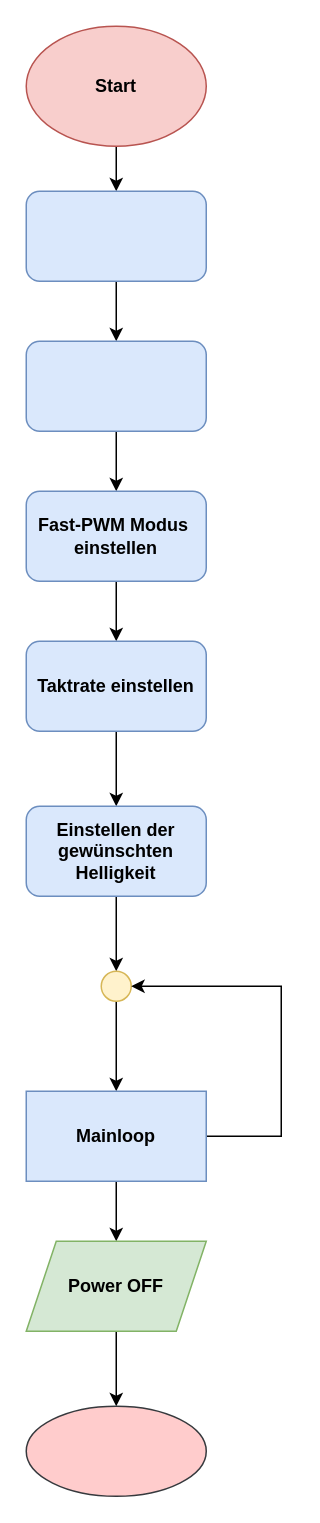
Some shapes in this 320 by 1523 pixel diagram are drawn without their labels. The centre of each missing label's shape, as x and y in pixels:
"DDRD einstellen" belongs at [115,385].
"Ende" belongs at [115,1450].
"Stack Init." belongs at [115,235].
